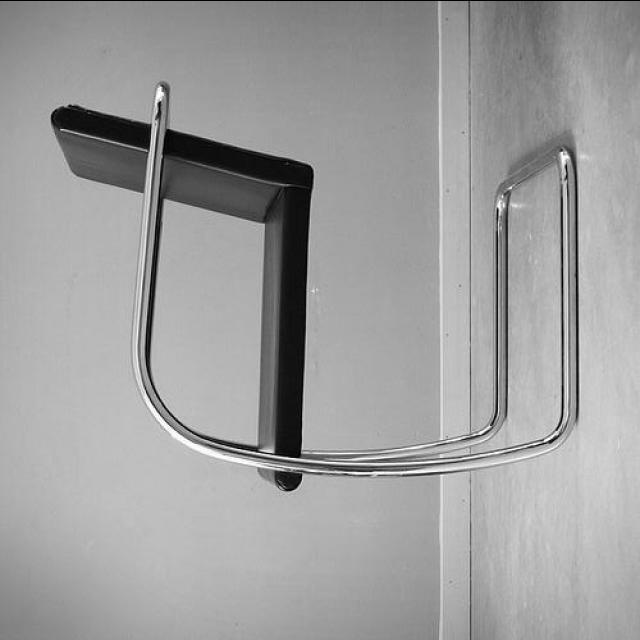chair: (51, 88, 579, 490)
